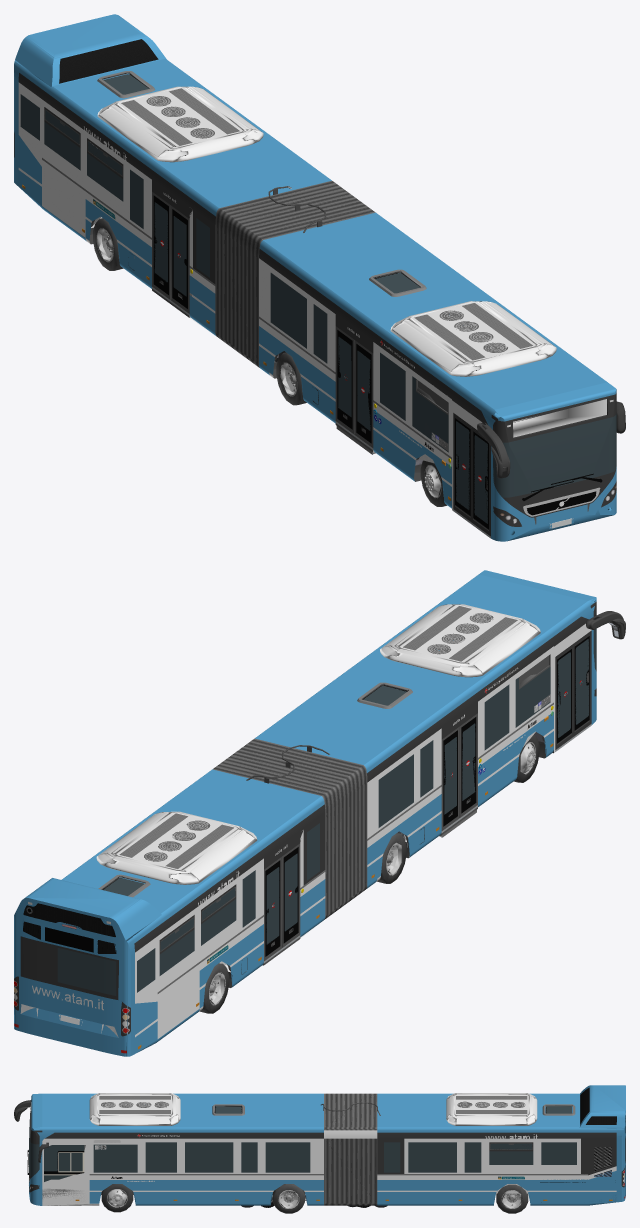
File: fleet.glb
3 views of the same model, one above another, from view 1: azimuth 30°, elevation 25°; view 2: azimuth 150°, elevation 25°; view 3: azimuth 270°, elevation 25° (orthographic). The views are drawn at different scales.
Parts seen in each view (by area): view 1: bus body, bus rear, bus body far, bus joint, bus rear far, bus wheel-L-0, bus wheel-L-1; view 2: bus rear, bus body, bus body far, bus joint, bus rear far, bus wheel-L-0; view 3: bus body, bus rear, bus joint, bus body far, bus rear far, bus wheel-R-2, bus wheel-R-1, bus wheel-R-0, bus wheel-R-0 far, bus wheel-R-1 far, bus wheel-R-2 far.
Boxes of the visible parts, x1,y1,x2,y2 form: bus body: (259, 212, 625, 541); bus rear: (14, 14, 331, 335); bus body far: (259, 222, 623, 535); bus joint: (215, 181, 375, 367); bus rear far: (15, 60, 276, 334); bus wheel-L-0: (93, 218, 123, 270); bus wheel-L-1: (276, 352, 306, 405); bus rear: (14, 769, 325, 1056); bus body: (255, 570, 625, 888); bus body far: (315, 597, 625, 872); bus joint: (212, 738, 367, 919); bus rear far: (14, 777, 324, 1053); bus wheel-L-0: (199, 963, 229, 1013); bus body: (14, 1093, 323, 1205); bus rear: (377, 1085, 625, 1205); bus joint: (324, 1093, 377, 1205); bus body far: (14, 1094, 323, 1205); bus rear far: (377, 1094, 622, 1202); bus wheel-R-2: (101, 1184, 133, 1212); bus wheel-R-1: (273, 1184, 304, 1213); bus wheel-R-0: (496, 1184, 528, 1213); bus wheel-R-0 far: (499, 1185, 524, 1212); bus wheel-R-1 far: (277, 1186, 301, 1212); bus wheel-R-2 far: (103, 1189, 131, 1211).
Bounding box in the file's own units: 1.26 × 1.32 × 7.46.
179 materials, 95 textured.
